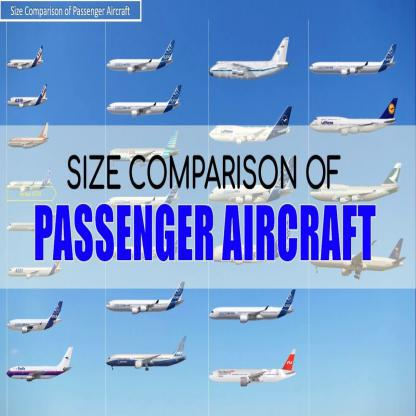CIV_Plane: (308, 160, 404, 208), (206, 98, 294, 146), (207, 33, 292, 82), (207, 346, 297, 392), (308, 95, 398, 136), (308, 40, 398, 80), (207, 287, 296, 327), (105, 334, 188, 376), (105, 280, 186, 317), (6, 344, 74, 388), (107, 126, 180, 166), (105, 82, 183, 119), (104, 36, 174, 76), (4, 299, 64, 335), (6, 119, 48, 154), (6, 166, 52, 196), (6, 257, 64, 279), (7, 80, 49, 110), (6, 43, 44, 72)
